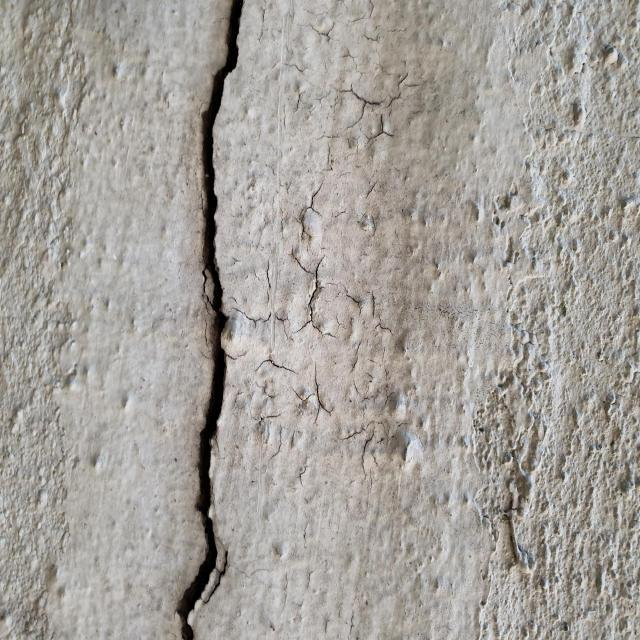SurfaceCrack: (136, 0, 299, 640)
